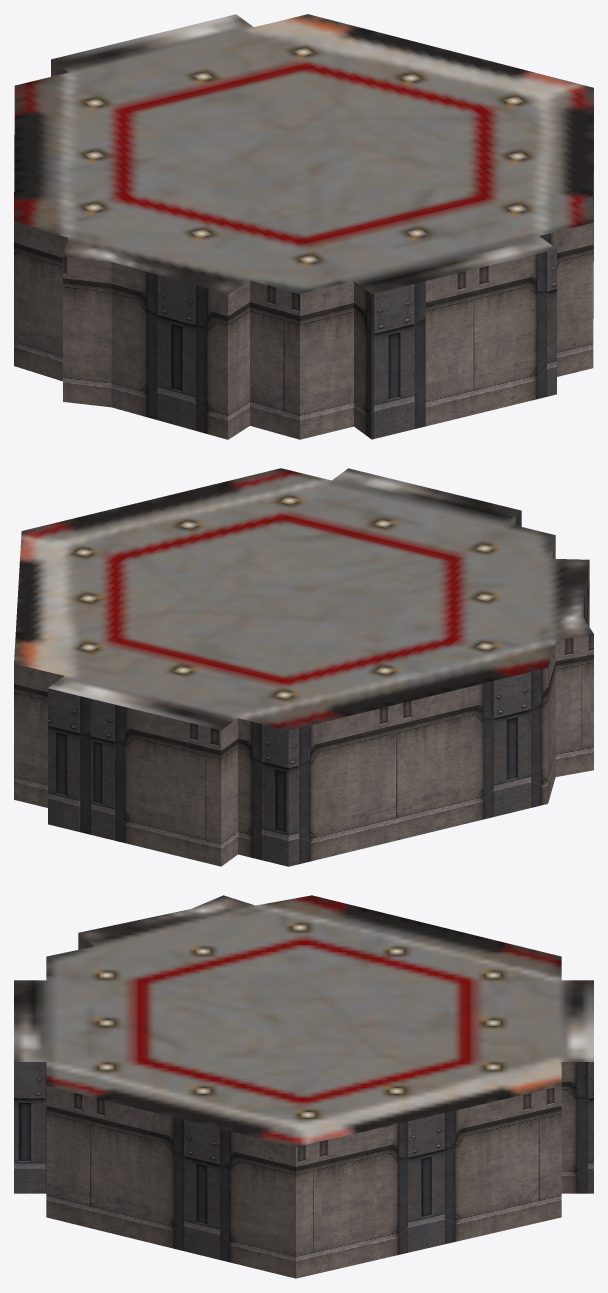
File: bsealed_medium_25.glb
3 views of the same model, one above another, from view 1: azimuth 30°, elevation 25°; view 2: azimuth 150°, elevation 25°; view 3: azimuth 270°, elevation 25° (orthographic). The views are drawn at different scales.
Parts seen in each view (by area): view 1: buildings/saxarba/bsealed_medium/bsealed_medium_25; view 2: buildings/saxarba/bsealed_medium/bsealed_medium_25; view 3: buildings/saxarba/bsealed_medium/bsealed_medium_25.
Part boxes in pixels (bbox=[...]): buildings/saxarba/bsealed_medium/bsealed_medium_25: bbox=[14, 14, 593, 439]; buildings/saxarba/bsealed_medium/bsealed_medium_25: bbox=[14, 468, 593, 866]; buildings/saxarba/bsealed_medium/bsealed_medium_25: bbox=[14, 895, 593, 1278].
Bounding box in the file's own units: 74 × 18 × 72.
